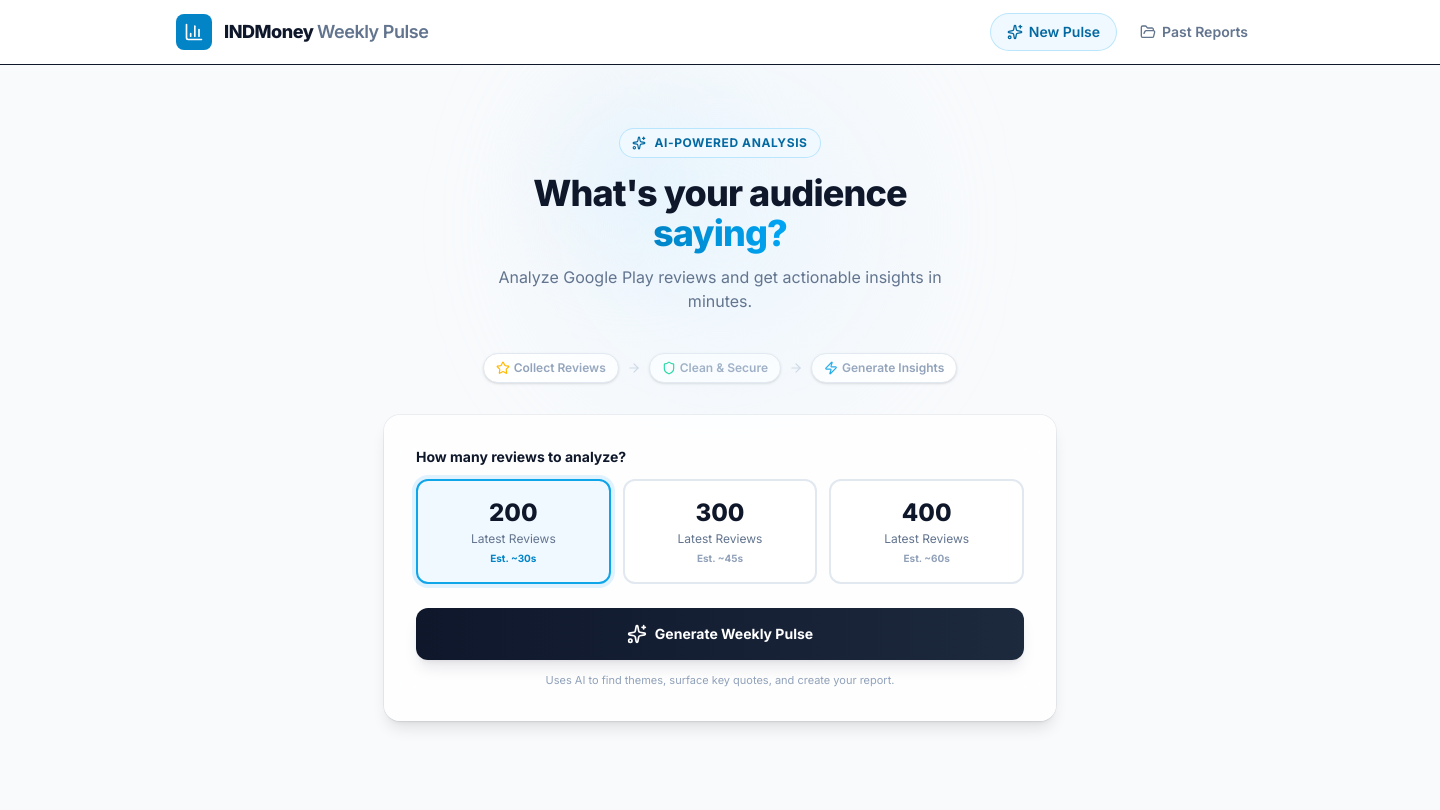
Test: App Component › shows the history view when the button is clicked
Click the button "Past Reports" at (1194, 32), box [1124, 14, 1264, 50]
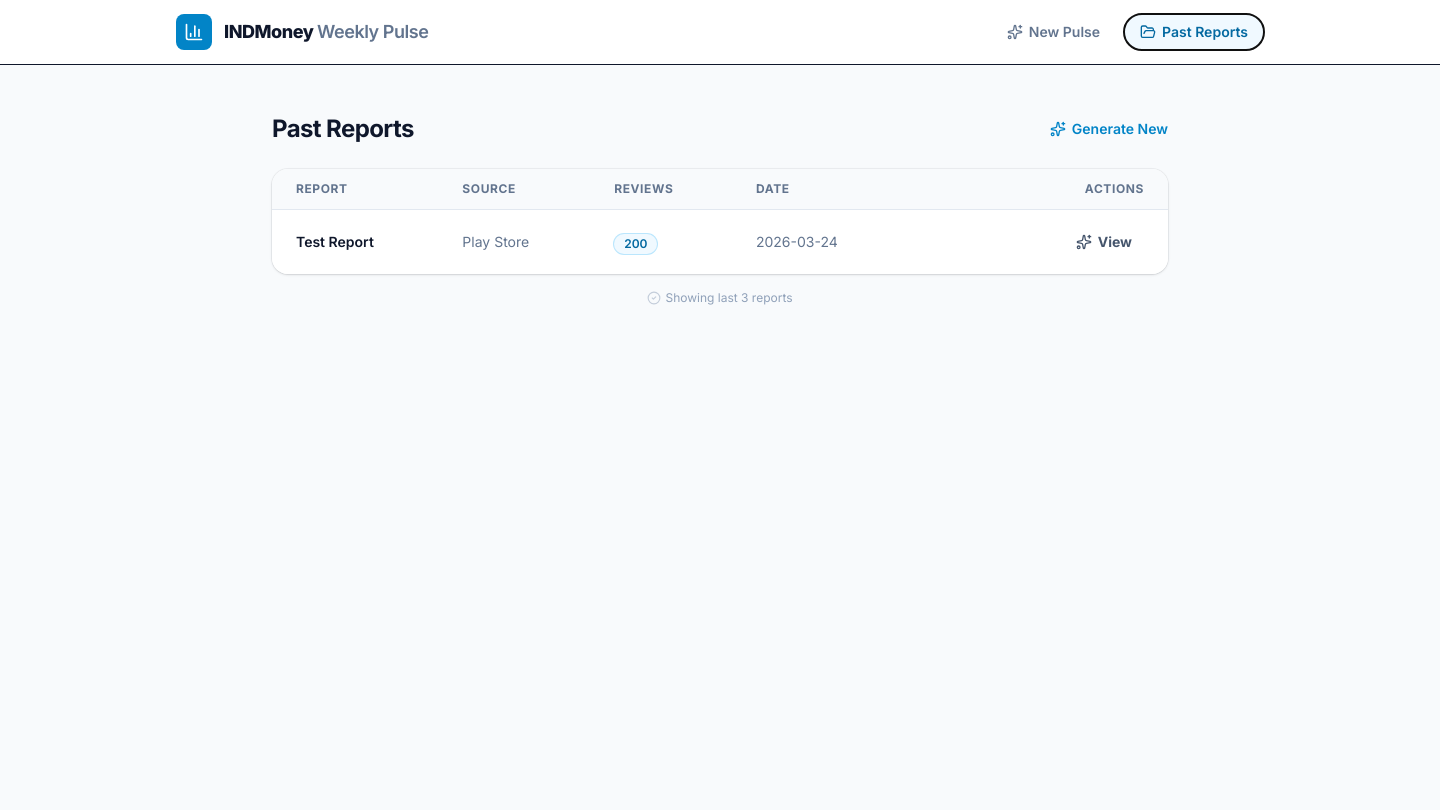
Result: the text "Test Report" is shown at [272, 210, 438, 274]
